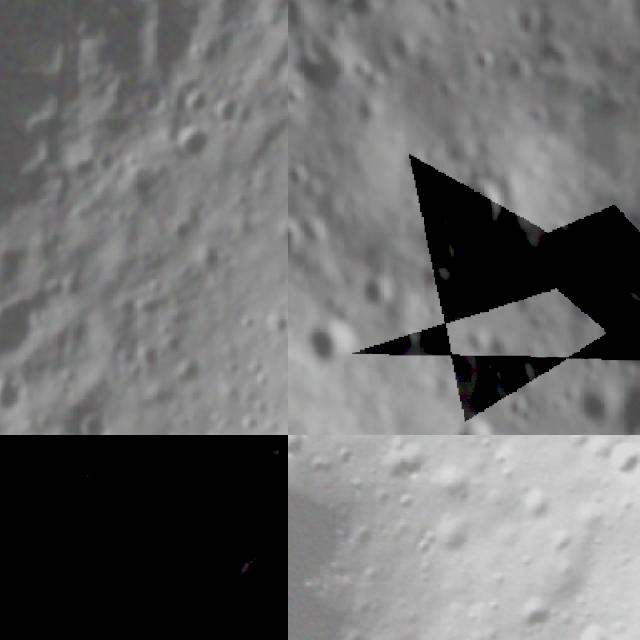crater: (68, 464, 174, 585), (416, 508, 482, 572), (196, 524, 262, 582), (298, 309, 362, 368), (0, 288, 43, 373), (452, 176, 508, 235), (600, 283, 640, 363), (501, 590, 559, 640), (591, 435, 640, 489), (168, 118, 222, 164), (558, 607, 624, 640), (191, 237, 235, 285), (66, 401, 119, 435), (132, 78, 168, 126), (168, 349, 207, 387), (499, 56, 536, 92), (288, 435, 316, 472), (383, 36, 417, 66), (516, 6, 544, 42), (504, 359, 539, 385), (268, 598, 288, 640), (433, 75, 462, 101), (288, 159, 312, 190), (271, 469, 288, 509), (448, 420, 491, 435), (308, 222, 330, 249), (395, 327, 422, 346), (506, 399, 529, 421), (425, 265, 453, 283), (431, 0, 466, 13)
